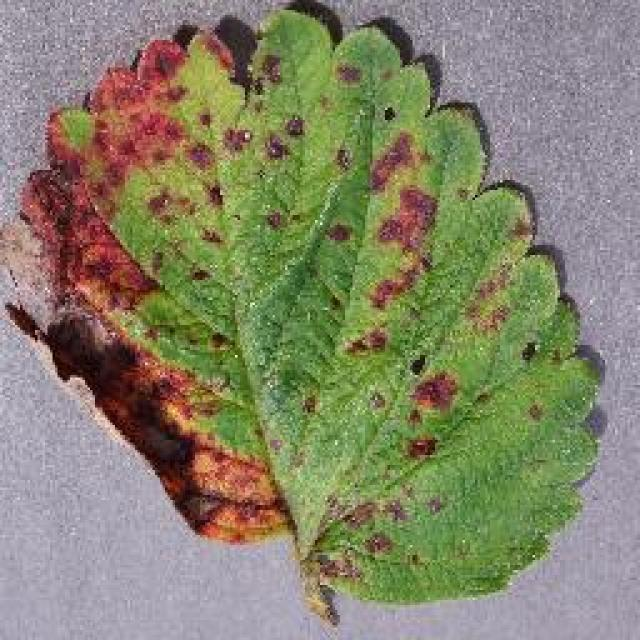Strawberry leaf scorch: (42, 162, 485, 398)
